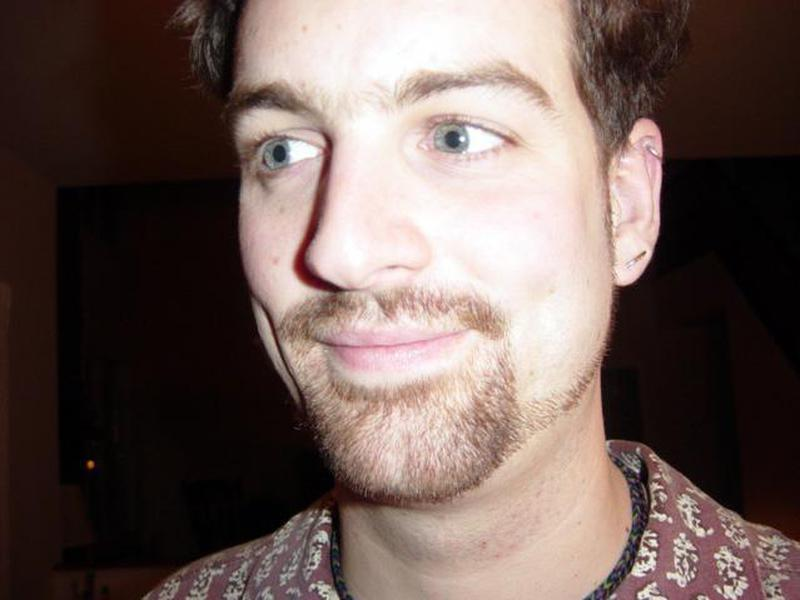person: (135, 1, 789, 600)
